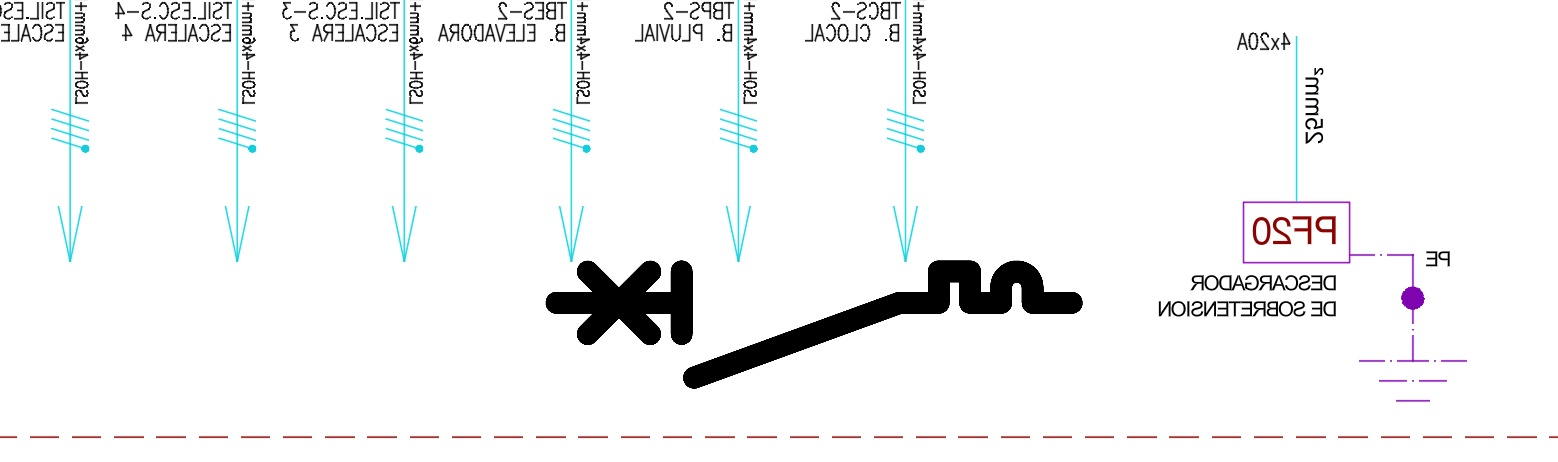interruptor_termomagnetico: (543, 258, 1085, 390)
